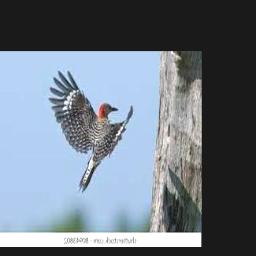Woodpecker: (48, 70, 133, 193)
